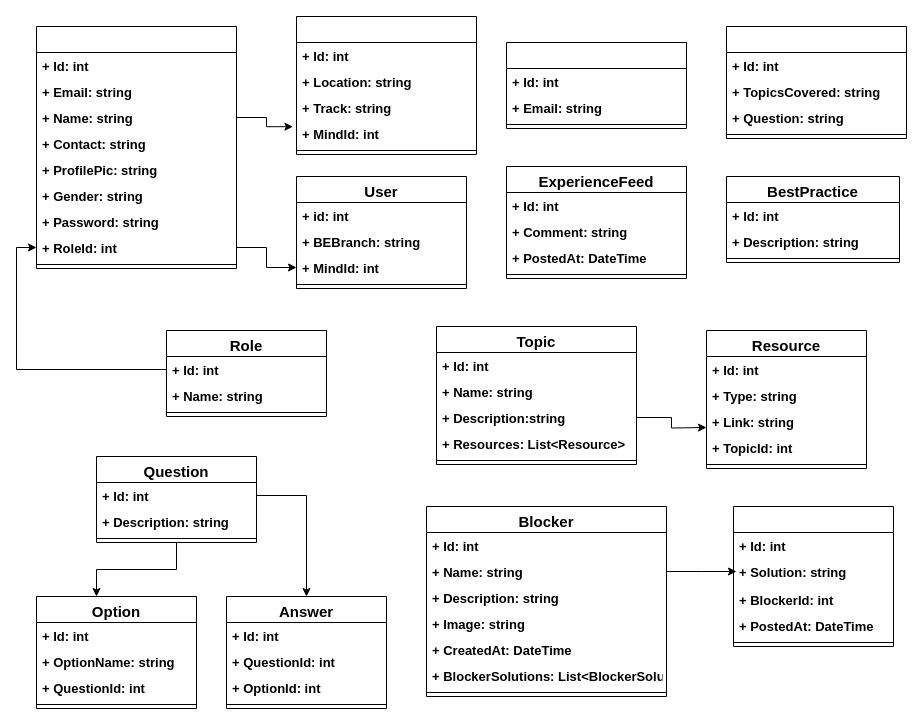
Some shapes in this 923 by 725 pixel diagram are drawn without their labels. The box of each missing label's shape, as (x1, y1, x2, y2) in pixels:
BlockerSolution: (732, 506, 894, 646)
Mind: (36, 26, 236, 268)
MindtreeMind: (296, 16, 476, 154)
ProblemStatement: (726, 26, 906, 138)
SelectedUser: (506, 42, 686, 128)
